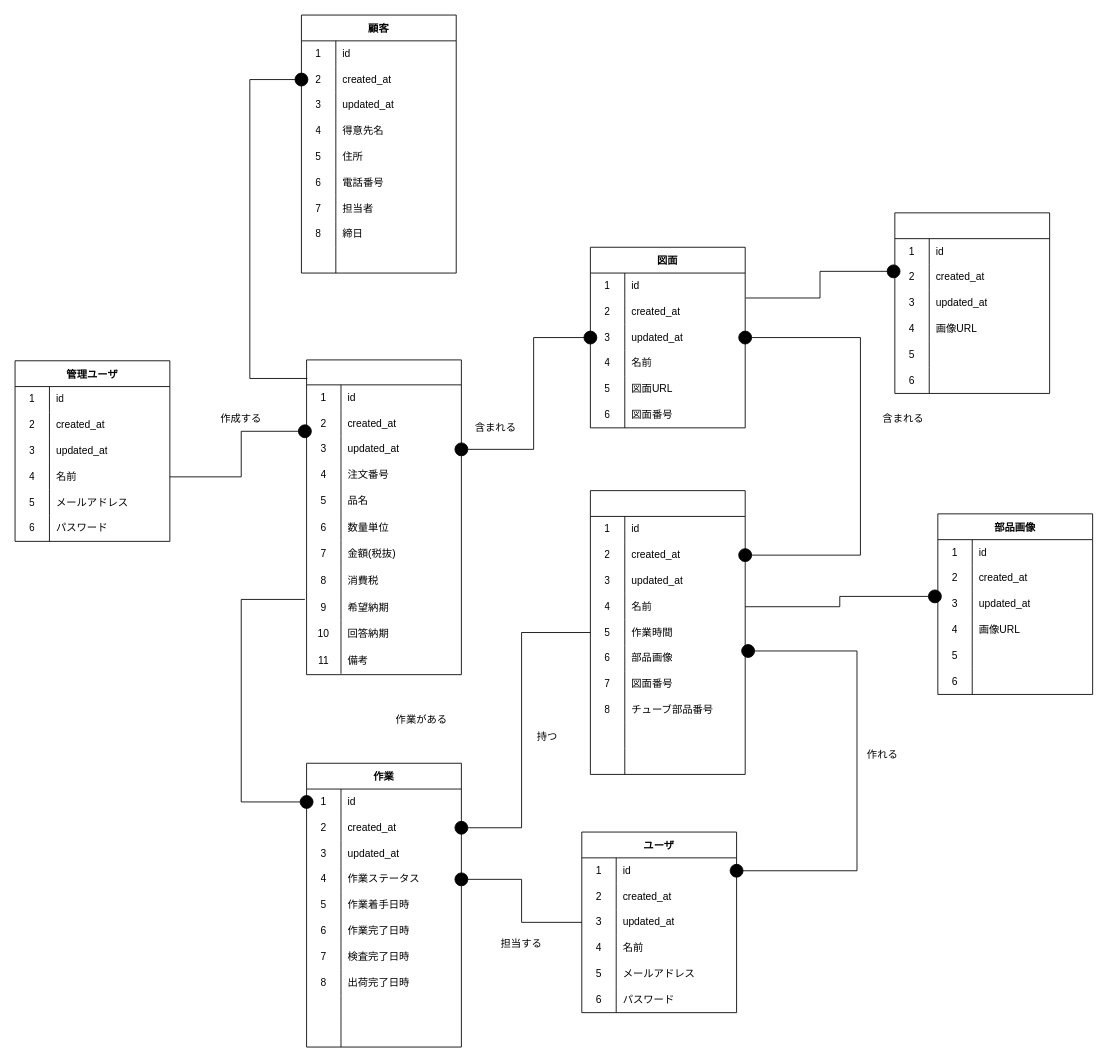
The diagram is 1108 pixels wide and 1062 high, and some of its shapes have lost their labels. Each missing label, with the box of its shape:
図面画像: (894, 212, 1050, 393)
注文: (306, 359, 461, 675)
部品: (590, 490, 745, 774)
